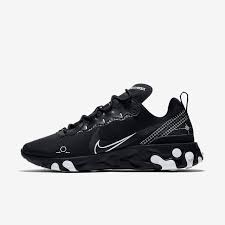nike: (89, 127, 142, 155)
